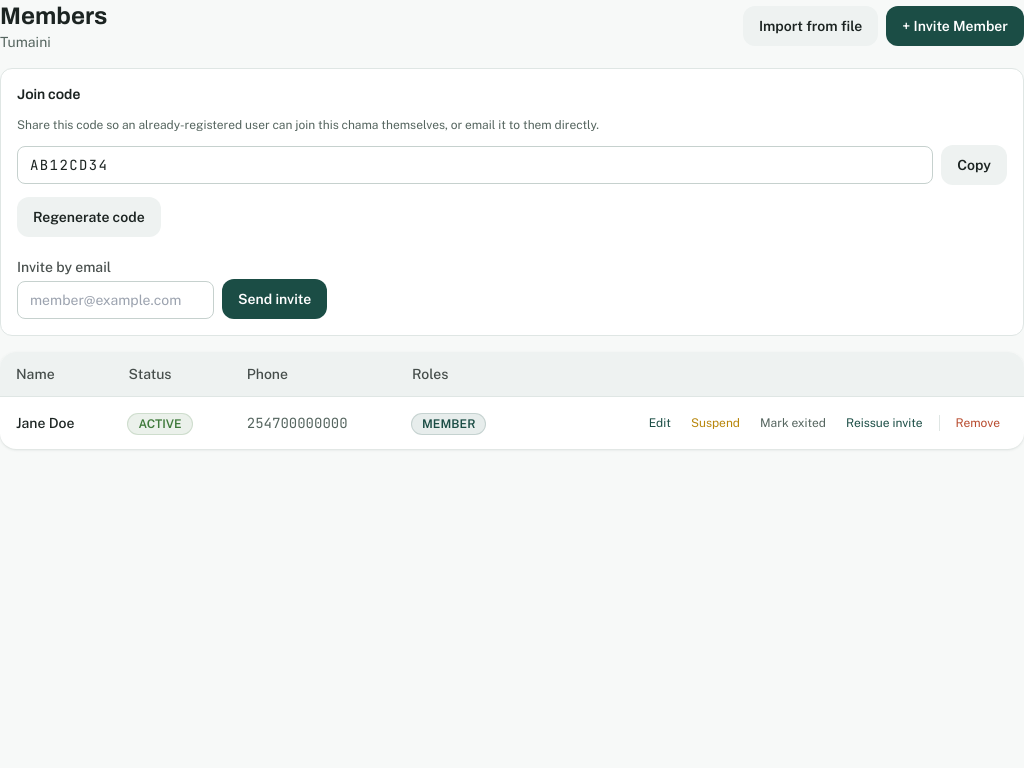
Test case: MembersPage › reissues an invite and shows the new temporary password
The width and height of the screenshot is (1024, 768).
Expected: the text "Jane Doe" is shown, [16,415,74,431]
What coordinates should you click on to do the following:
click the button "Reissue invite"
I would click on:
 (884, 423)
Its box is [838,409,930,437].
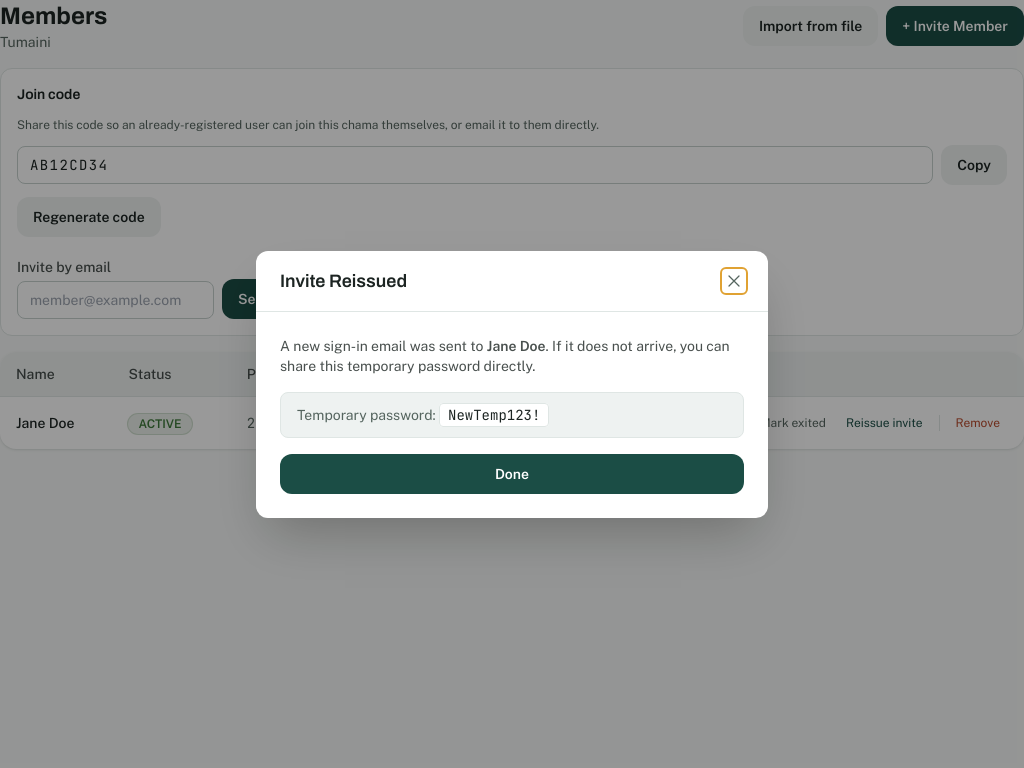
Now the text "NewTemp123!" is shown, box [439,402,549,426]
What coordinates should you click on to do the following:
click the button "Done"
I would click on:
 (512, 474)
Its box is [280,454,744,494].
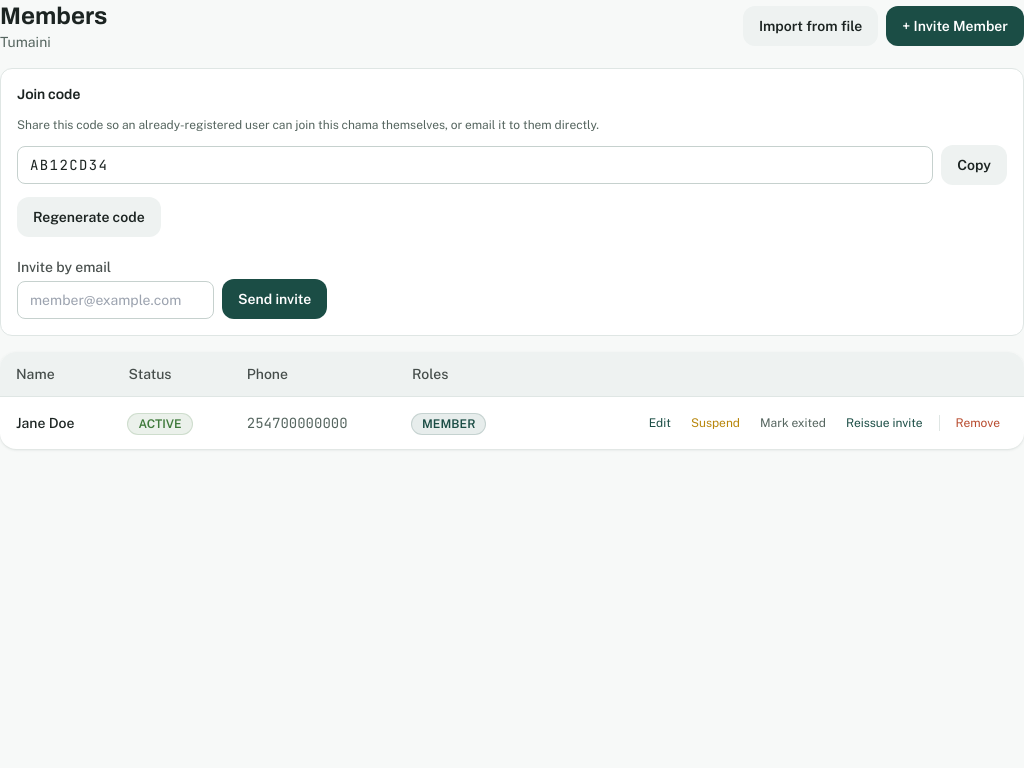
Now the text "NewTemp123!" is gone
